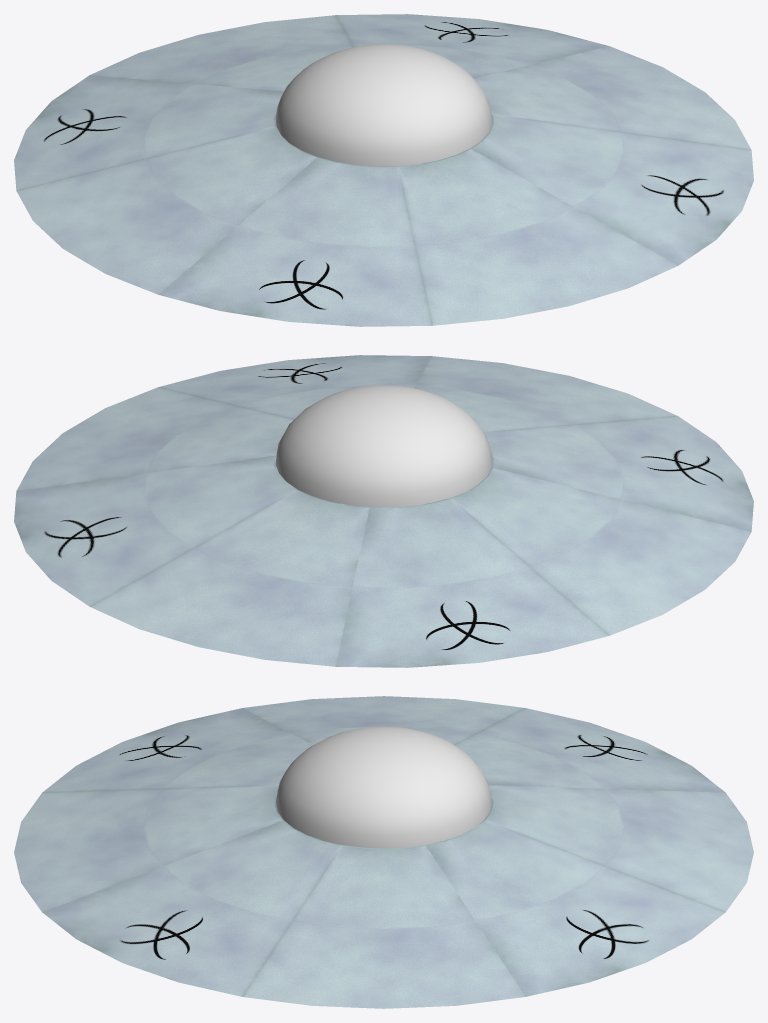
The model's file is UFO.fbx.
3 views of the same model, one above another, from view 1: azimuth 30°, elevation 25°; view 2: azimuth 150°, elevation 25°; view 3: azimuth 270°, elevation 25° (orthographic).
Visible parts, largest first — view 1: UFO, GlassDome; view 2: UFO, GlassDome; view 3: UFO, GlassDome.
Part boxes in pixels (bbox=[...]): UFO: bbox=[14, 14, 753, 326]; GlassDome: bbox=[275, 44, 492, 166]; UFO: bbox=[14, 355, 753, 667]; GlassDome: bbox=[275, 385, 492, 507]; UFO: bbox=[14, 696, 753, 1008]; GlassDome: bbox=[275, 726, 492, 848].
Size of the model in its own units: 13.88 by 13.88 by 3.33.
